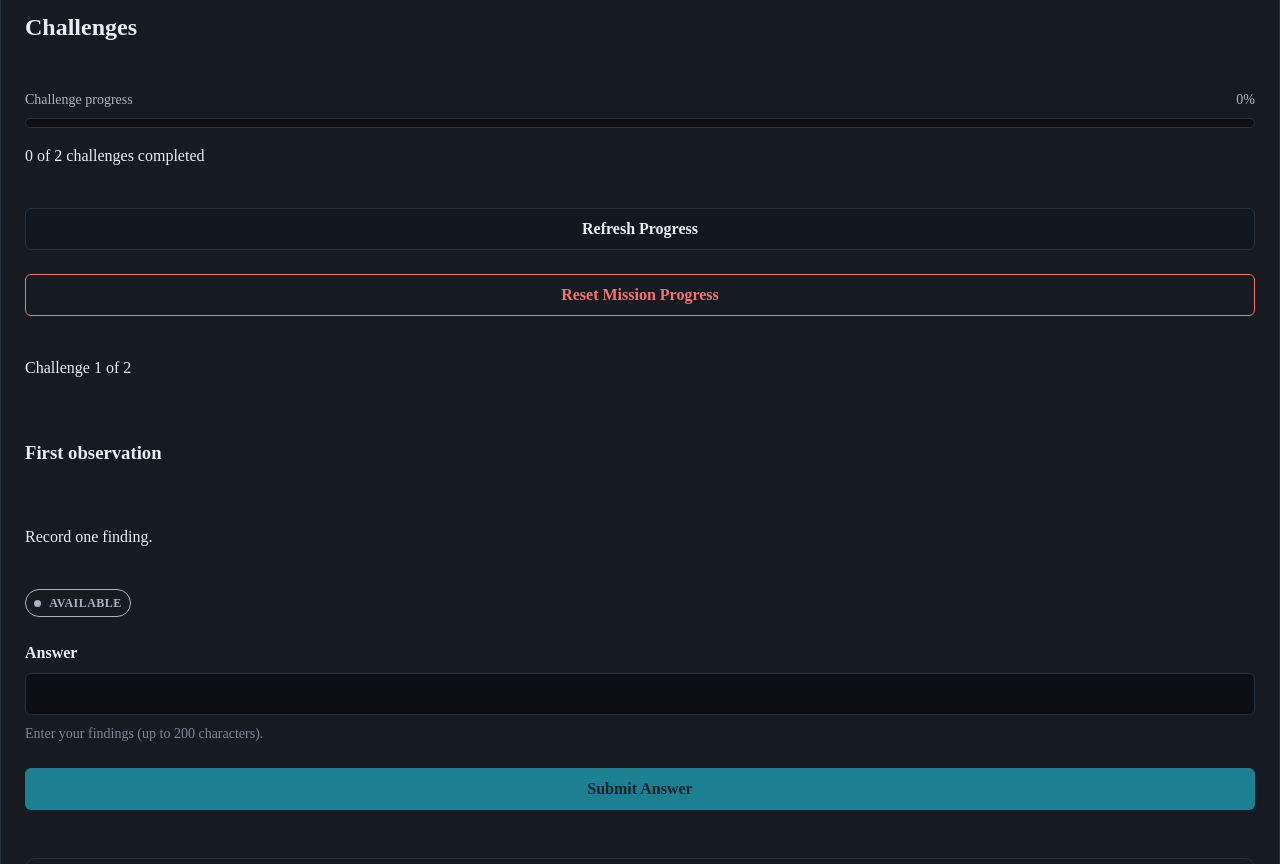
Scenario: does not unlock from answer response when progress refresh fails
Type "fixture observation" into the field labelled "Answer" at (640, 694), box x1=25 y1=673 x2=1255 y2=715
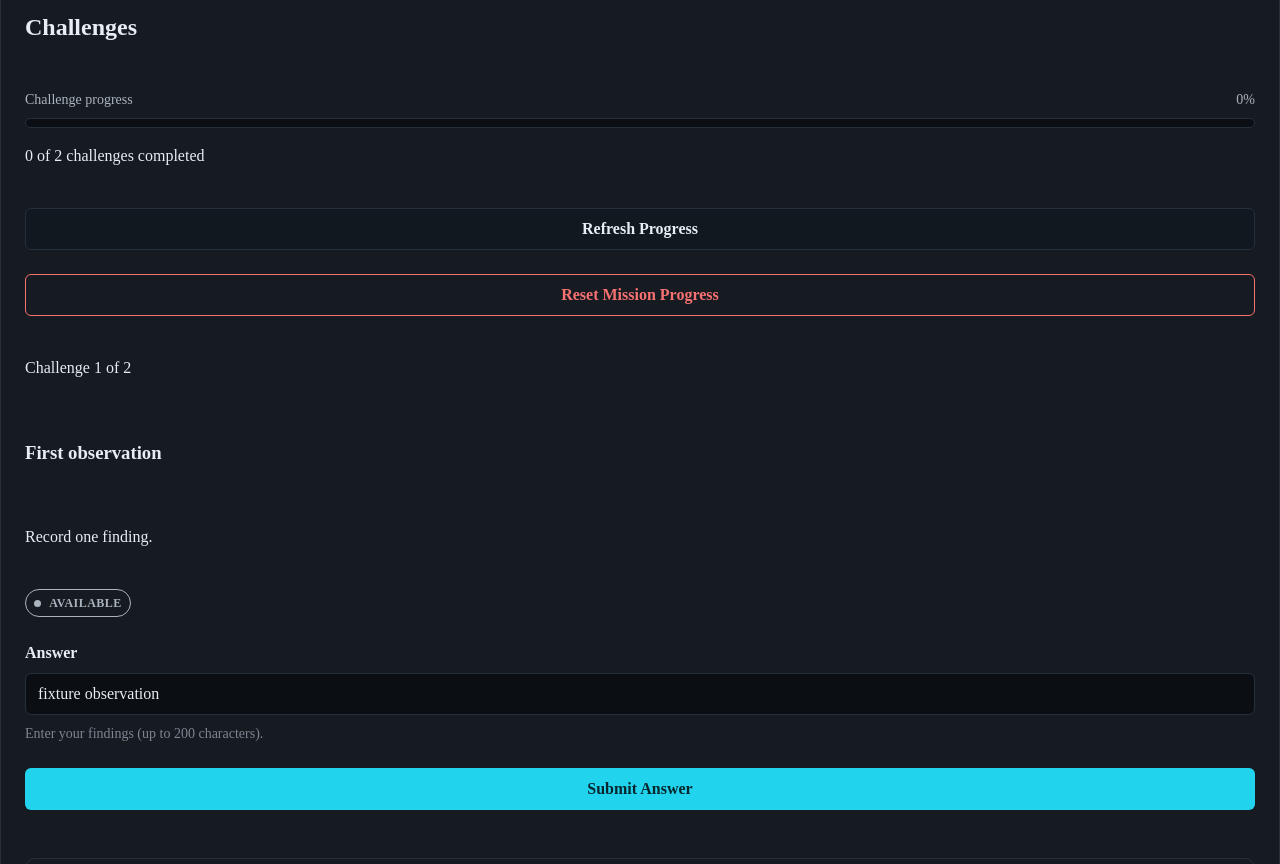
Click the button "Submit Answer" at (640, 789), box x1=25 y1=768 x2=1255 y2=810
(page scrolled)
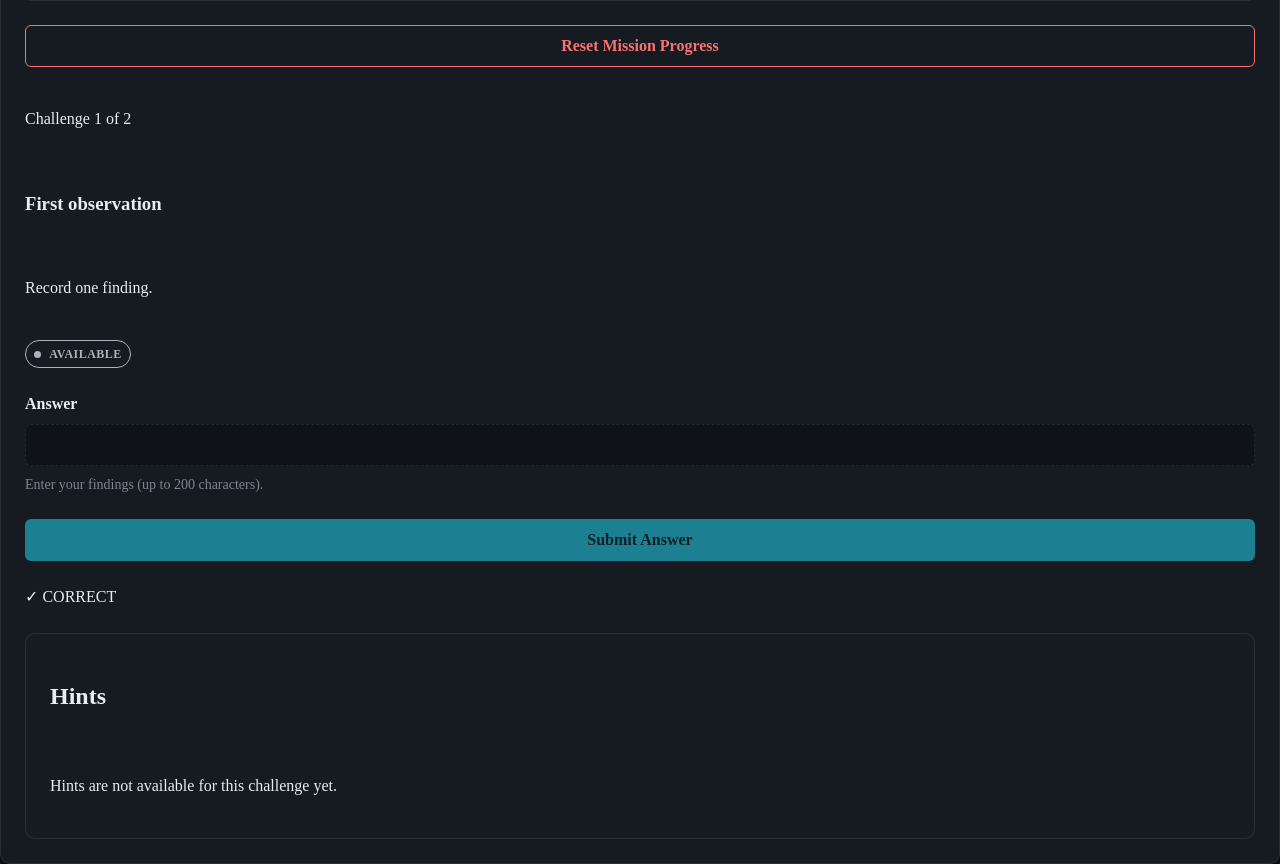
Now the button "Submit Answer" is disabled, box x1=25 y1=519 x2=1255 y2=561
